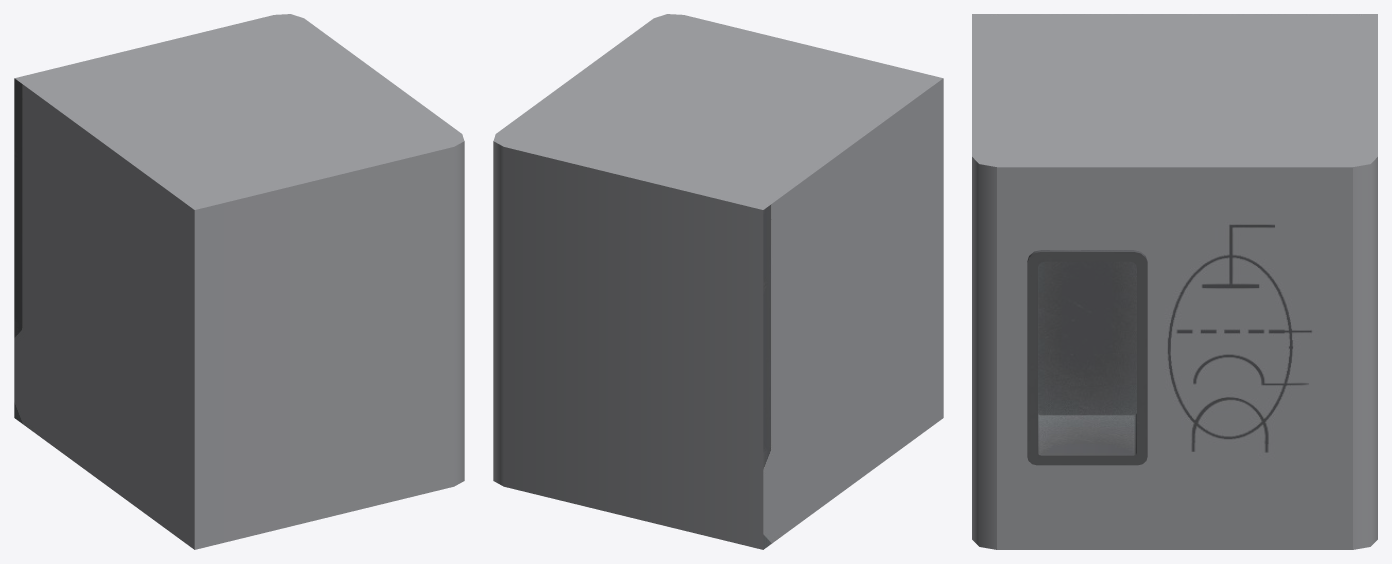
The model's file is SM_FlaskBox.fbx.
3 renders of one model, left to right at view 1: azimuth 30°, elevation 25°; view 2: azimuth 150°, elevation 25°; view 3: azimuth 270°, elevation 25°, orthographic. The views are drawn at different scales.
Visible parts, largest first — view 1: SM_FlaskBox; view 2: SM_FlaskBox; view 3: SM_FlaskBox.
Part boxes in pixels (box(x1,y1,x2,y2)): SM_FlaskBox: box(14, 14, 464, 549); SM_FlaskBox: box(493, 14, 943, 549); SM_FlaskBox: box(972, 14, 1377, 549).
Size of the model in its own units: 74.37 by 67.24 by 77.38.
